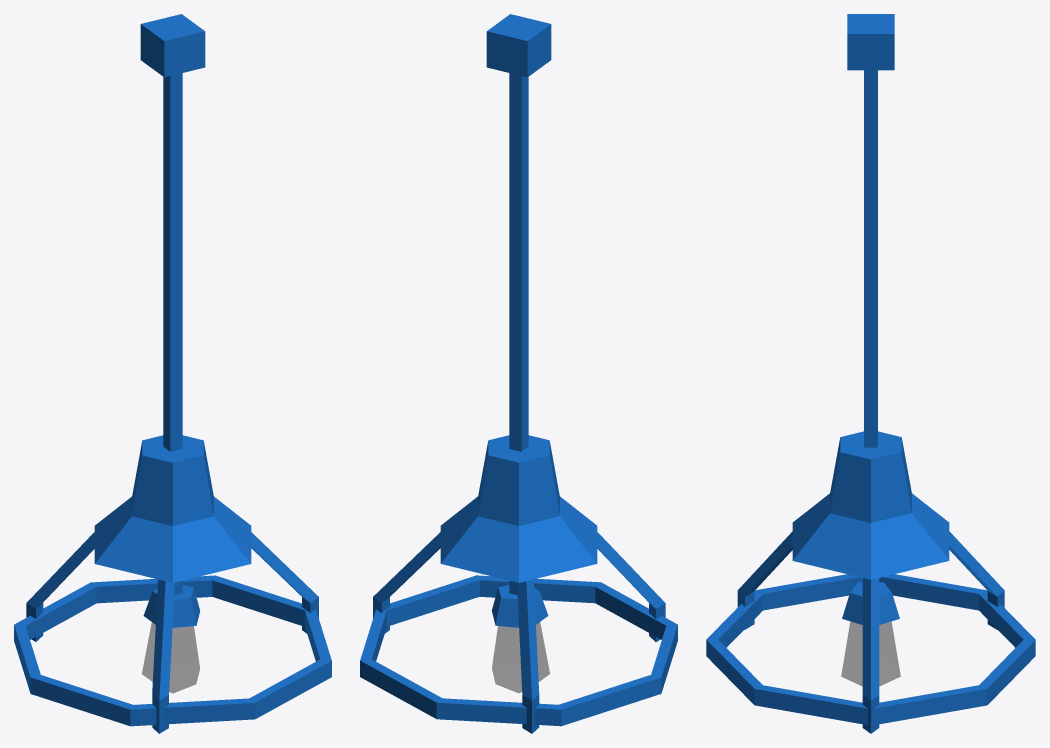
File: SM_ceiling_lamp.fbx
3 views of the same model, side by side, from view 1: azimuth 30°, elevation 25°; view 2: azimuth 150°, elevation 25°; view 3: azimuth 270°, elevation 25° (orthographic).
Visible parts, largest first — view 1: ceiling_lamp; view 2: ceiling_lamp; view 3: ceiling_lamp.
Part boxes in pixels (box(x1,y1,x2,y2)): ceiling_lamp: box(14, 14, 331, 733); ceiling_lamp: box(360, 14, 677, 733); ceiling_lamp: box(706, 14, 1035, 733).
Size of the model in its own units: 41.37 by 91.3 by 40.88.
